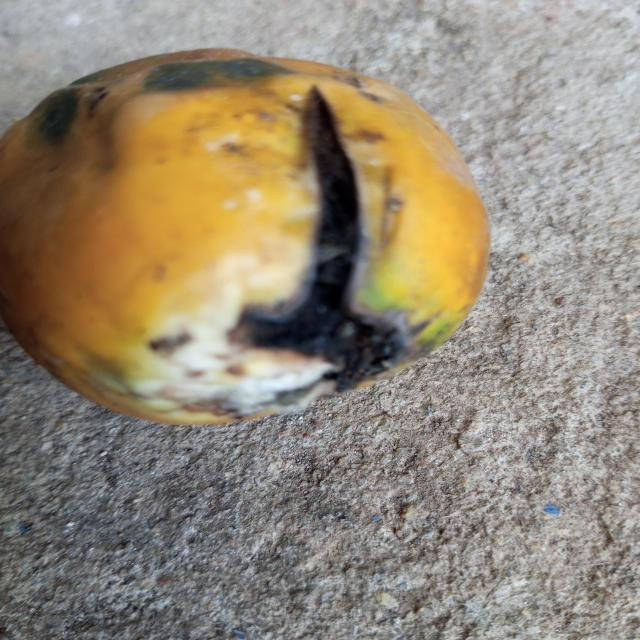damaged: (0, 50, 489, 425)
